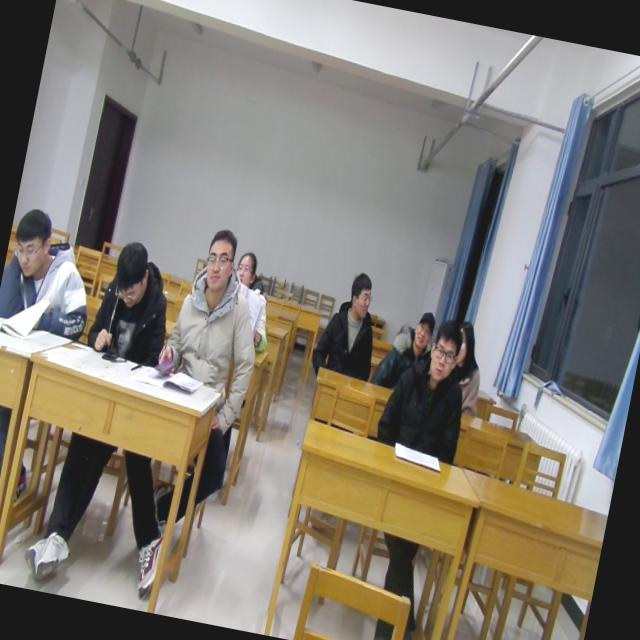bow: (0, 201, 106, 347)
down: (8, 195, 60, 276), (105, 233, 156, 310)
lookup: (194, 220, 243, 292), (424, 316, 469, 390), (408, 306, 439, 356), (230, 246, 260, 289)
sit: (154, 220, 281, 395), (373, 310, 488, 462), (82, 235, 180, 371), (308, 265, 388, 383), (222, 248, 286, 354), (369, 303, 440, 394), (442, 320, 494, 418)
